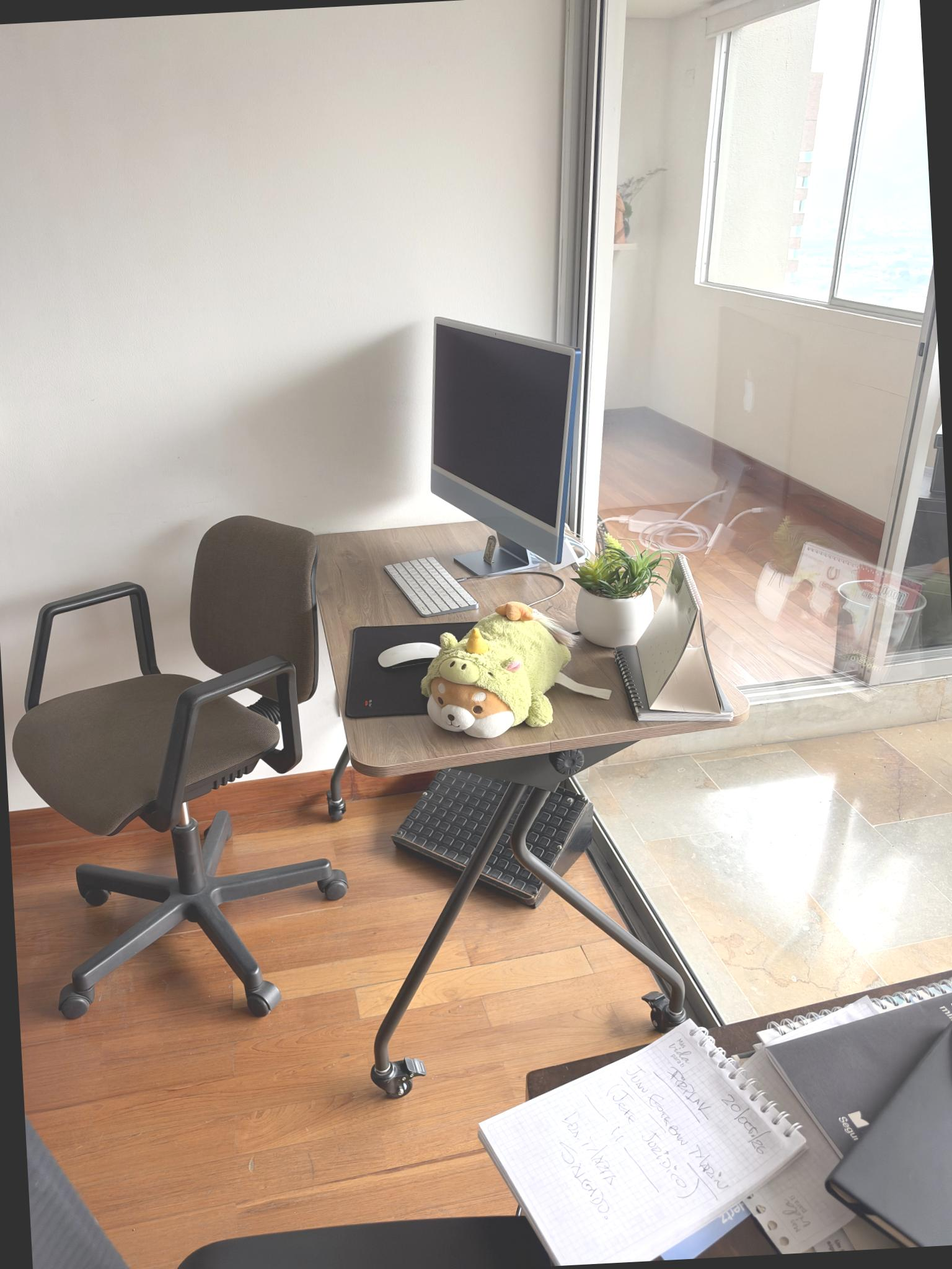peluche_martin: (416, 597, 582, 742)
